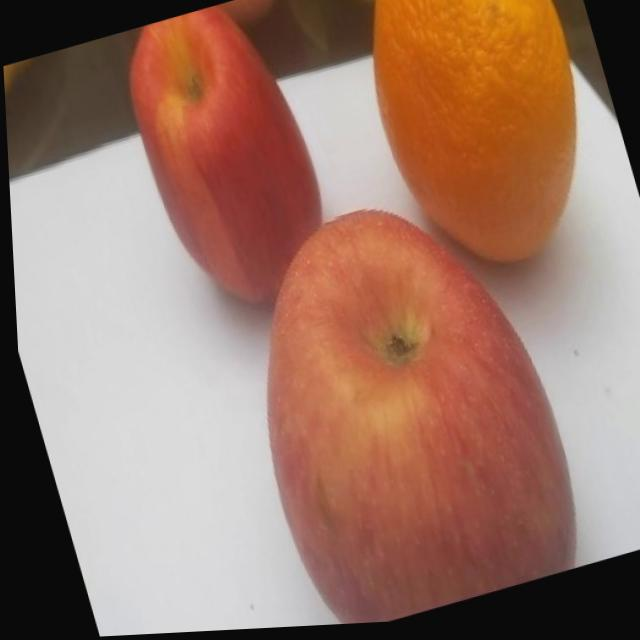Apple: (202, 175, 592, 632), (108, 0, 345, 332)
Orange: (338, 0, 621, 295)
